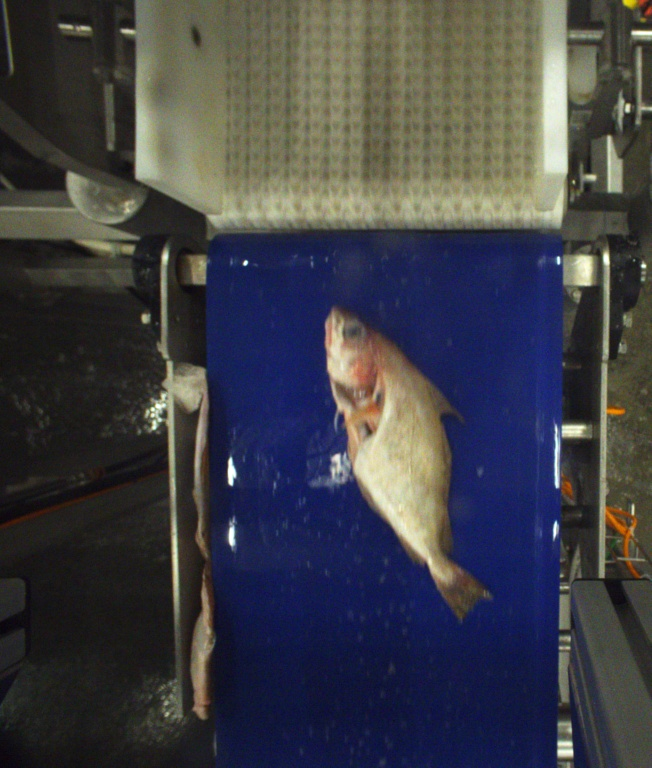BIB: (322, 304, 491, 621)
